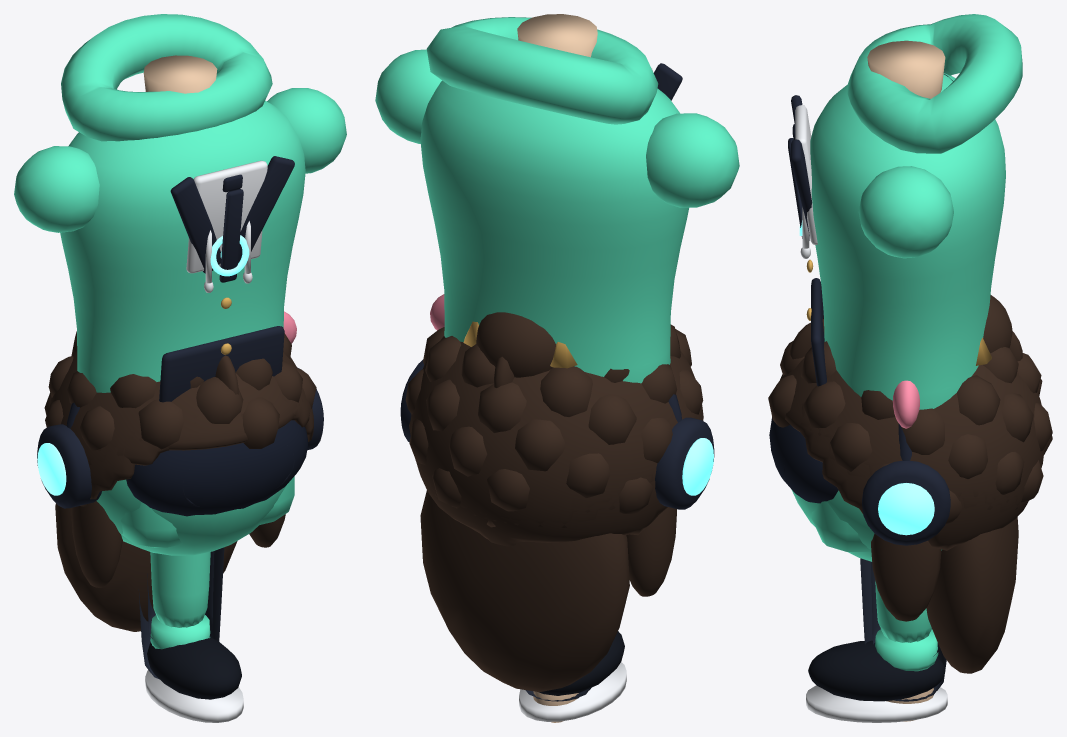
Rendered from avatar.glb.
3 renders of one model, left to right at view 1: azimuth 30°, elevation 25°; view 2: azimuth 150°, elevation 25°; view 3: azimuth 270°, elevation 25°, orthographic. The views are drawn at different scales.
Visible parts, largest first — view 1: P_torso_hoodie, P_head_round, P_hair_long, P_hair_curly, P_torso_suit, P_shin, P_arm, P_hair_bun, P_acc_headphones, P_head_robot, P_neck, P_hair_short (+3 smaller); view 2: P_torso_hoodie, P_hair_long, P_hair_curly, P_hair_bun, P_acc_headphones, P_hair_short, P_shin, P_neck, P_acc_crown, P_torso_suit; view 3: P_torso_hoodie, P_hair_long, P_hair_curly, P_shin, P_hair_bun, P_acc_headphones, P_head_round, P_hair_short, P_arm, P_neck, P_torso_suit, P_head_robot (+3 smaller).
Boxes of the visible parts, x1,y1,x2,y2 form: P_torso_hoodie: [14, 14, 346, 402]; P_head_round: [96, 420, 307, 555]; P_hair_long: [49, 353, 313, 631]; P_hair_curly: [44, 331, 316, 450]; P_torso_suit: [170, 156, 294, 354]; P_shin: [145, 551, 243, 722]; P_arm: [150, 552, 210, 649]; P_hair_bun: [50, 351, 308, 454]; P_acc_headphones: [37, 367, 323, 508]; P_head_robot: [120, 476, 294, 547]; P_neck: [143, 55, 217, 93]; P_hair_short: [49, 363, 312, 465]; P_torso_hoodie: [375, 17, 739, 383]; P_hair_long: [411, 345, 703, 692]; P_hair_curly: [405, 324, 703, 514]; P_hair_bun: [411, 312, 697, 527]; P_acc_headphones: [400, 359, 714, 509]; P_hair_short: [411, 356, 702, 527]; P_shin: [519, 631, 626, 721]; P_neck: [517, 14, 597, 57]; P_acc_crown: [463, 321, 577, 368]; P_torso_suit: [651, 63, 682, 100]; P_torso_hoodie: [800, 14, 1022, 409]; P_hair_long: [788, 357, 1040, 673]; P_hair_curly: [768, 315, 1052, 524]; P_shin: [806, 561, 947, 722]; P_hair_bun: [780, 295, 1044, 512]; P_acc_headphones: [862, 423, 950, 545]; P_head_round: [769, 417, 941, 561]; P_hair_short: [794, 380, 1043, 504]; P_arm: [875, 581, 938, 721]; P_neck: [867, 40, 945, 98]; P_torso_suit: [788, 95, 817, 320]; P_head_robot: [811, 501, 871, 551].
Bounding box in the file's own units: 0.6595 × 1.27 × 0.4815.
